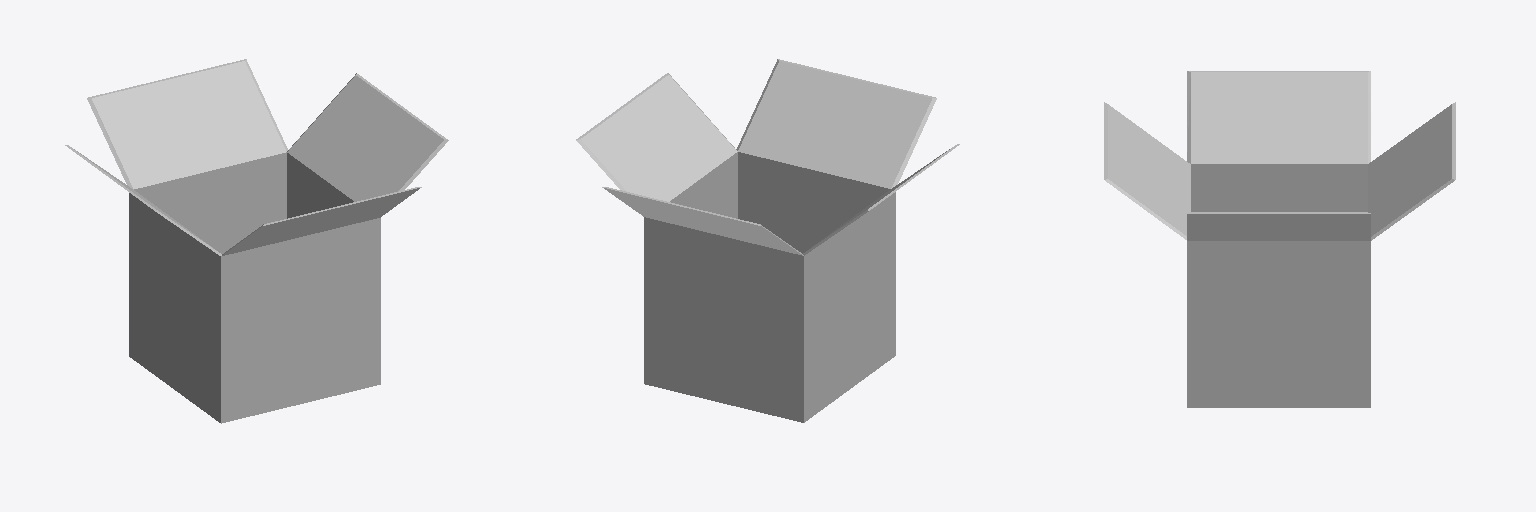
3 renders of one model, left to right at view 1: azimuth 30°, elevation 25°; view 2: azimuth 150°, elevation 25°; view 3: azimuth 270°, elevation 25°, orthographic.
Visible parts, largest first — view 1: pasted__pasted__carton_null_ pasted__group15 group17; view 2: pasted__pasted__carton_null_ pasted__group15 group17; view 3: pasted__pasted__carton_null_ pasted__group15 group17.
Part boxes in pixels (x1,y1,x2,y2): pasted__pasted__carton_null_ pasted__group15 group17: (65, 59, 448, 423); pasted__pasted__carton_null_ pasted__group15 group17: (576, 59, 959, 422); pasted__pasted__carton_null_ pasted__group15 group17: (1104, 71, 1455, 407).
Size of the model in its own units: 6.86 by 5.09 by 7.12.